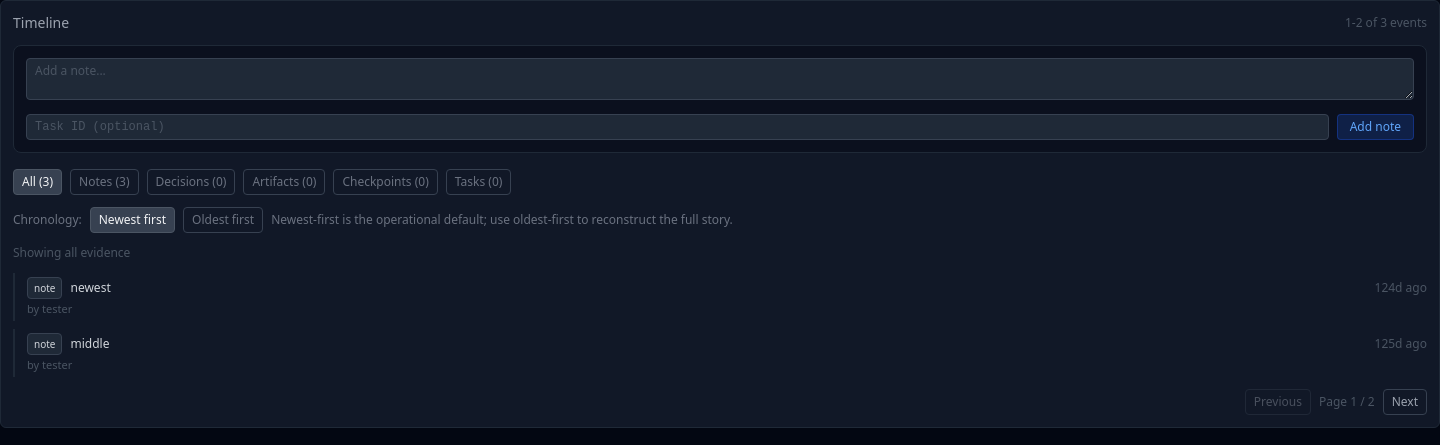
it: ExperimentTimelineCard › paginates timeline events and disables controls at bounds
expect the text "1-2 of 3 events" is shown: met, box [1345, 15, 1427, 31]
expect the button "Previous" is disabled: met, box [1245, 389, 1311, 415]
Click the button "Next". click: (1405, 402)
box: [1383, 389, 1427, 415]
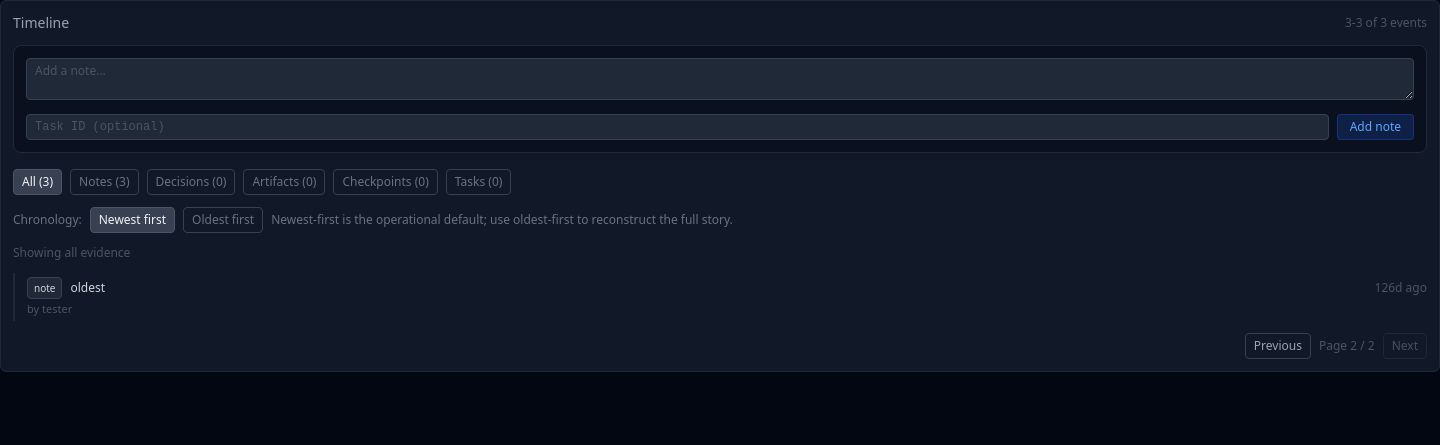
expect the text "3-3 of 3 events" is shown: met, box [1345, 15, 1427, 31]
expect the button "Previous" is enabled: met, box [1245, 333, 1311, 359]
expect the button "Next" is disabled: met, box [1383, 333, 1427, 359]
